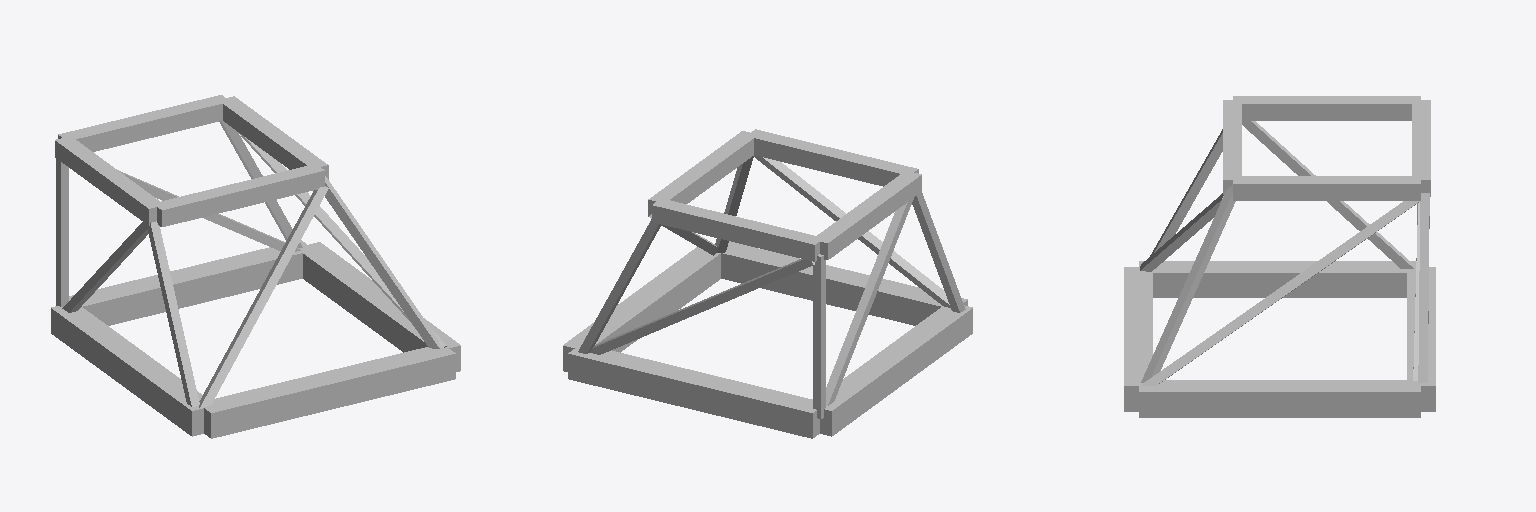
File: truss_largemedium.obj
3 renders of one model, left to right at view 1: azimuth 30°, elevation 25°; view 2: azimuth 150°, elevation 25°; view 3: azimuth 270°, elevation 25°, orthographic.
Visible parts, largest first — view 1: Cube1; view 2: Cube1; view 3: Cube1.
Part boxes in pixels (left/top/right/bottom): Cube1: left=51, top=95, right=460, bottom=438; Cube1: left=563, top=129, right=972, bottom=438; Cube1: left=1124, top=96, right=1435, bottom=417.
Size of the model in its own units: 3.3 by 2.25 by 3.3.